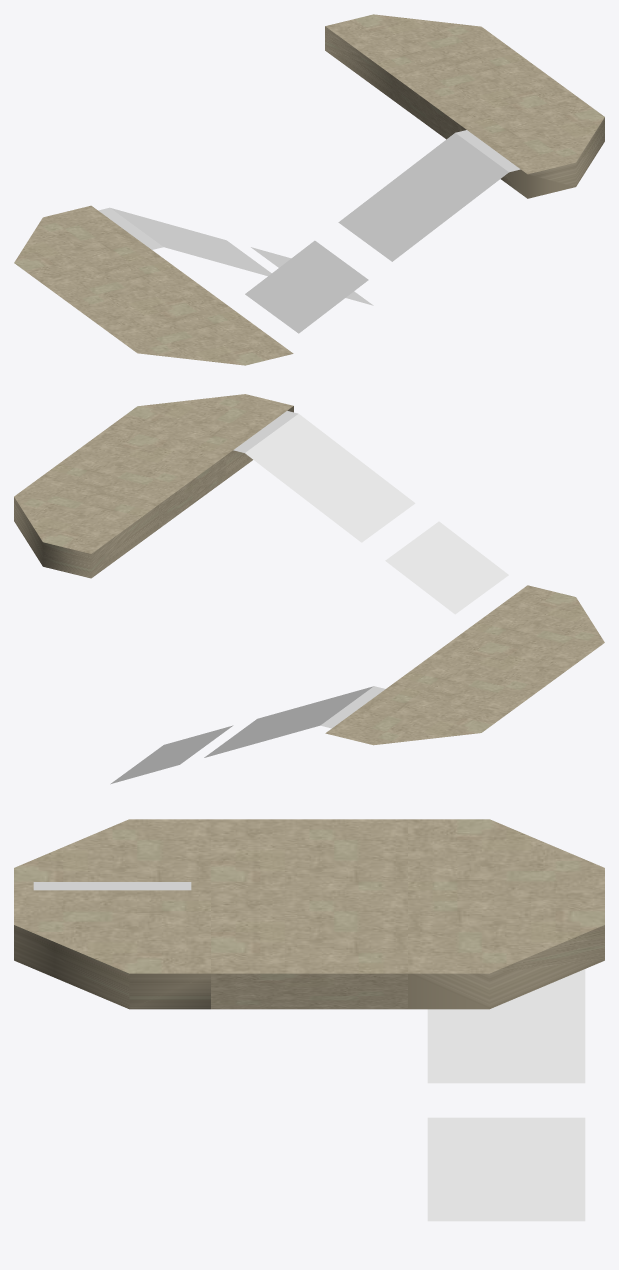
File: LibraryStairsNewColliders.glb
3 views of the same model, one above another, from view 1: azimuth 30°, elevation 25°; view 2: azimuth 150°, elevation 25°; view 3: azimuth 270°, elevation 25° (orthographic). The views are drawn at different scales.
Visible parts, largest first — view 1: floor2, floor1, ramp2, ramp; view 2: floor2, floor1, ramp2, ramp; view 3: floor2, floor1, ramp, ramp2.
Boxes of the visible parts, bbox=[...] form: floor2: bbox=[325, 14, 604, 198]; floor1: bbox=[14, 205, 293, 365]; ramp2: bbox=[245, 130, 520, 333]; ramp: bbox=[98, 207, 373, 305]; floor2: bbox=[14, 394, 293, 578]; floor1: bbox=[325, 585, 604, 745]; ramp2: bbox=[233, 411, 508, 614]; ramp: bbox=[110, 686, 385, 784]; floor2: bbox=[14, 890, 604, 1009]; floor1: bbox=[14, 819, 604, 890]; ramp: bbox=[427, 969, 585, 1221]; ramp2: bbox=[33, 882, 191, 890].
Size of what is drawn, in the model's own units: 4 by 2 by 3.
1 material, 1 textured.
